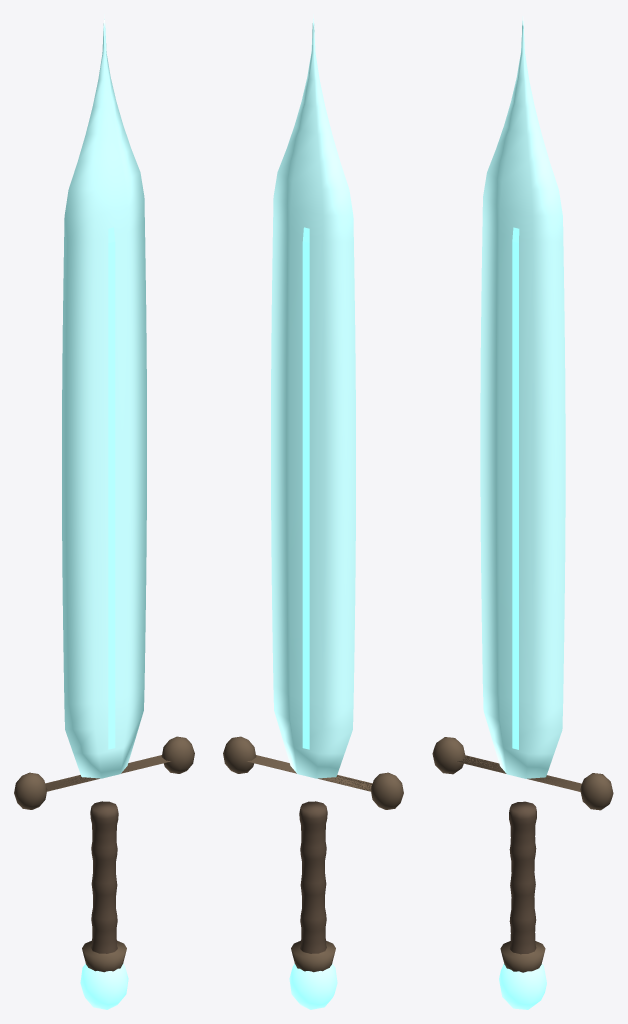
File: rootblade.glb
The picture shows the model from 3 angles, left to right: view 1: azimuth 30°, elevation 25°; view 2: azimuth 150°, elevation 25°; view 3: azimuth 330°, elevation 25°; orthographic projection.
Parts seen in each view (by area): view 1: Rootblade; view 2: Rootblade; view 3: Rootblade.
Boxes of the visible parts, left/top/right/bottom form: Rootblade: left=14, top=14, right=194, bottom=1009; Rootblade: left=223, top=14, right=403, bottom=1009; Rootblade: left=432, top=16, right=613, bottom=1009.
Bounding box in the file's own units: 0.1983 × 1.07 × 0.048.
